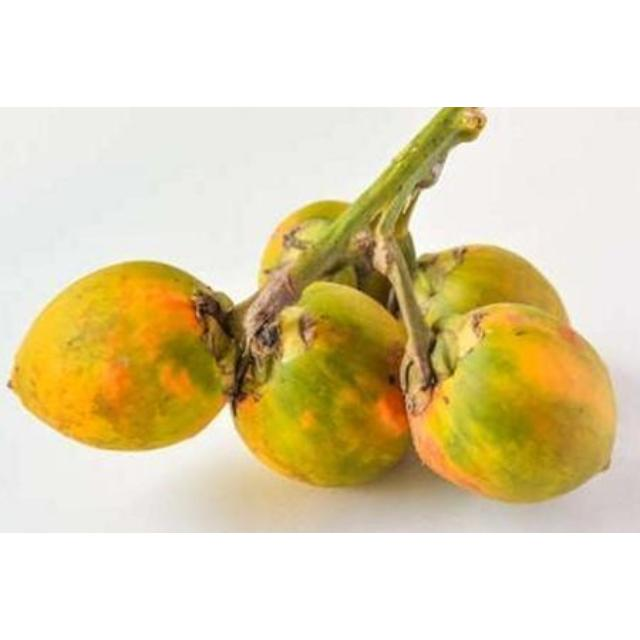good: (226, 107, 619, 507), (7, 261, 235, 454), (232, 282, 411, 491)
